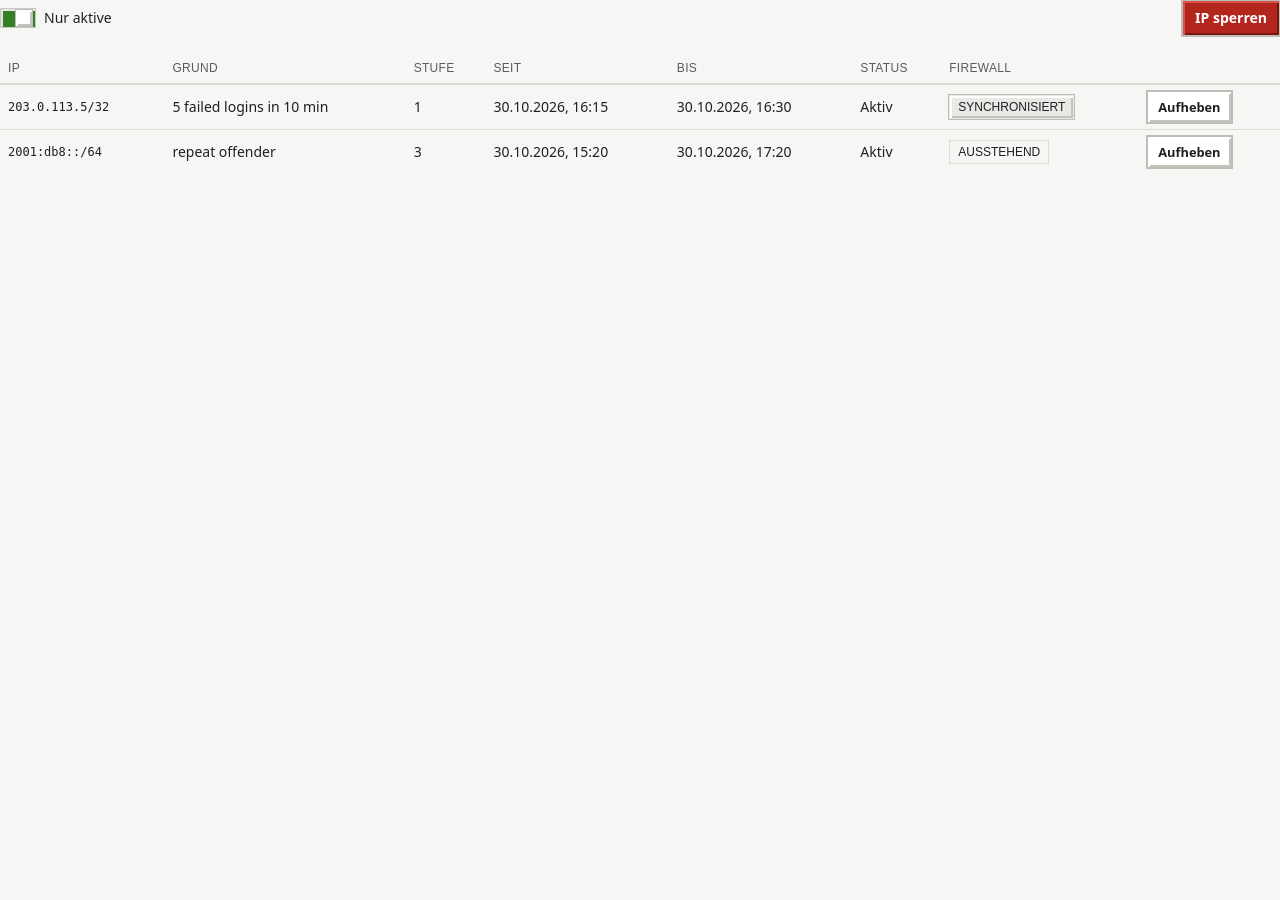
Test: JailsTab › lifts a jail after sudo confirmation
Step 1. Click the button with aria-label "Sperre für 203.0.113.5/32 aufheben" → coordinates (1189, 107), box x1=1147 y1=91 x2=1232 y2=123
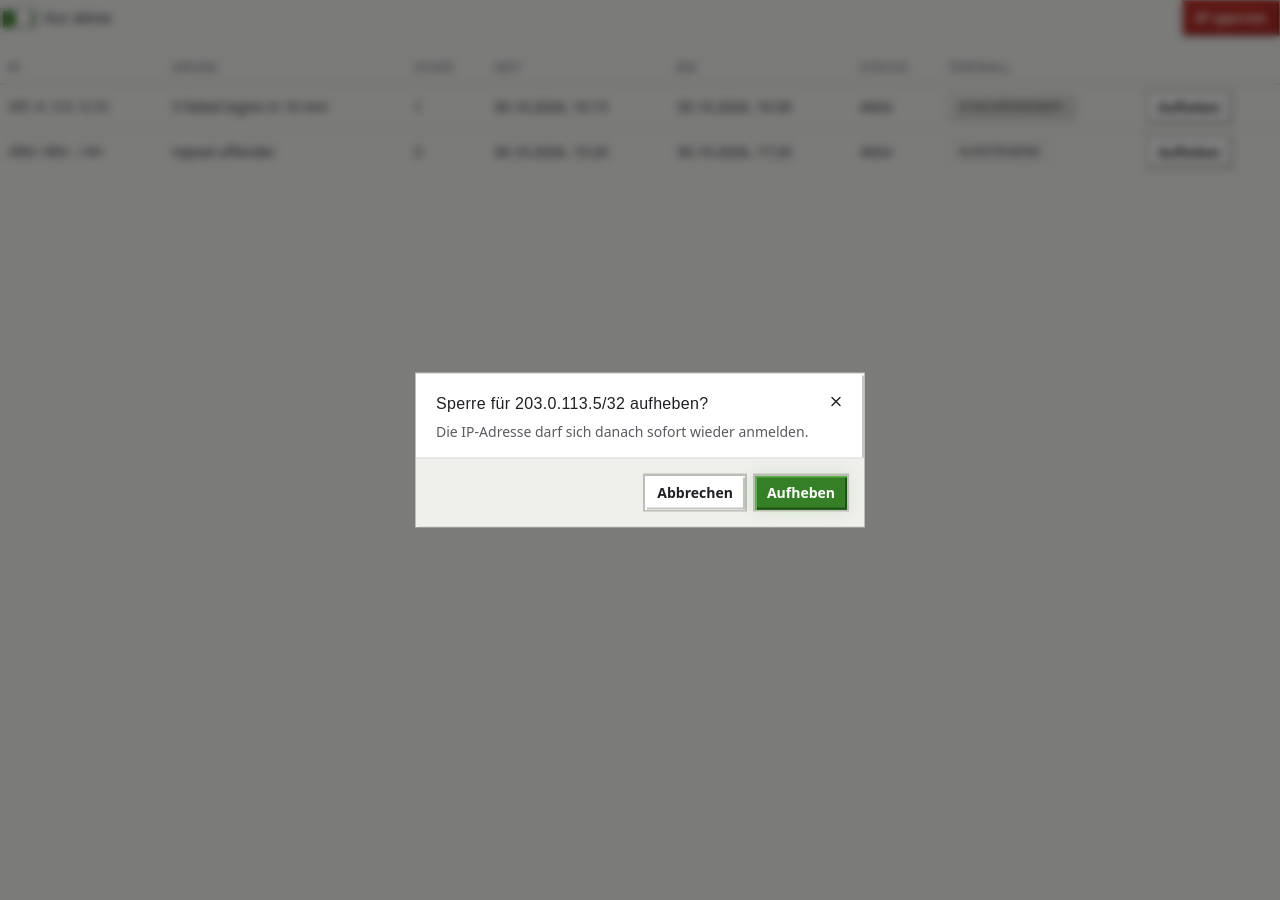
Step 2. Click the button "Aufheben" → coordinates (801, 492), box x1=754 y1=474 x2=848 y2=510
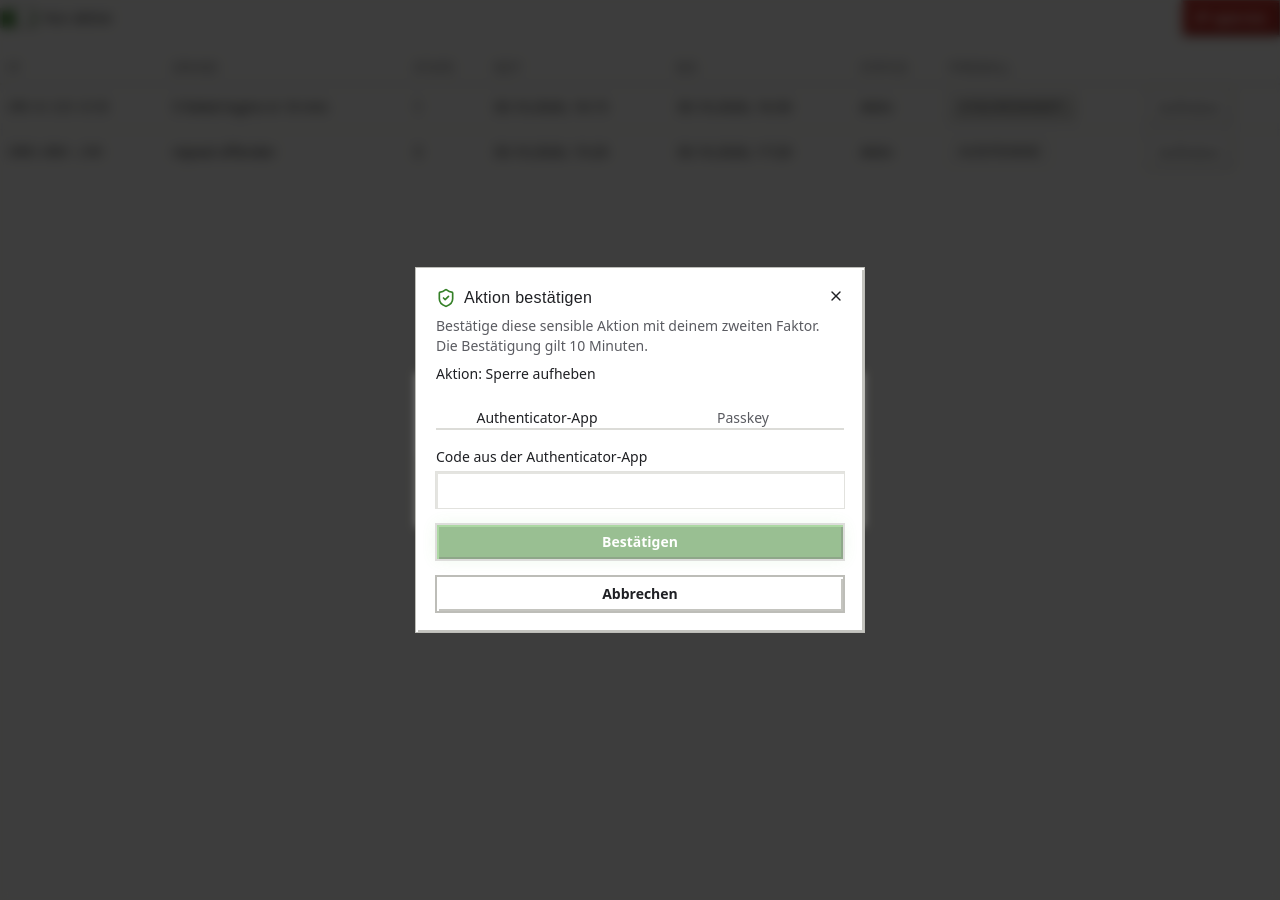
Step 3. Type "123456" into the field labelled "Code aus der Authenticator-App" → coordinates (640, 490), box x1=436 y1=472 x2=844 y2=508
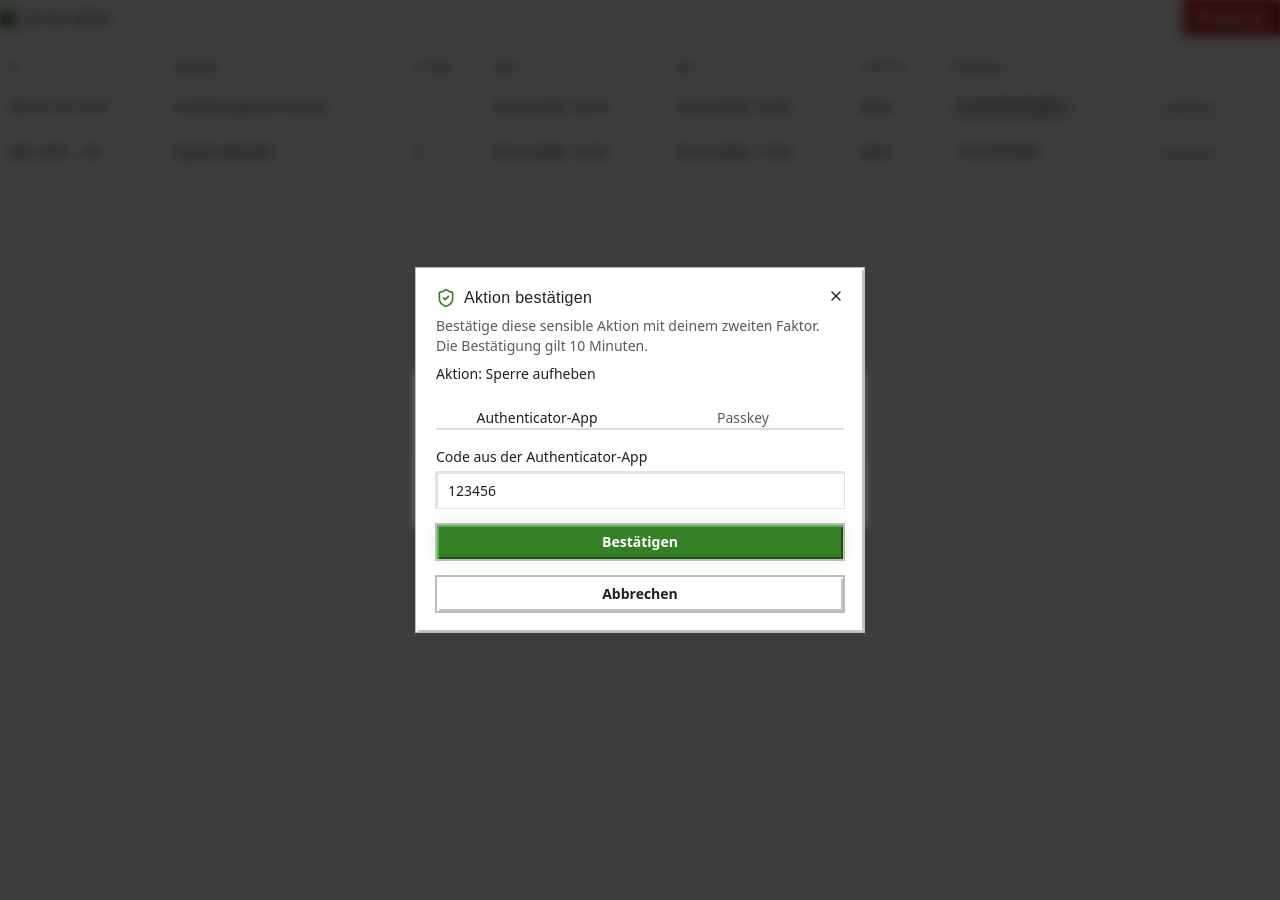
Step 4. Click the button "Bestätigen" → coordinates (640, 542), box x1=436 y1=524 x2=844 y2=560
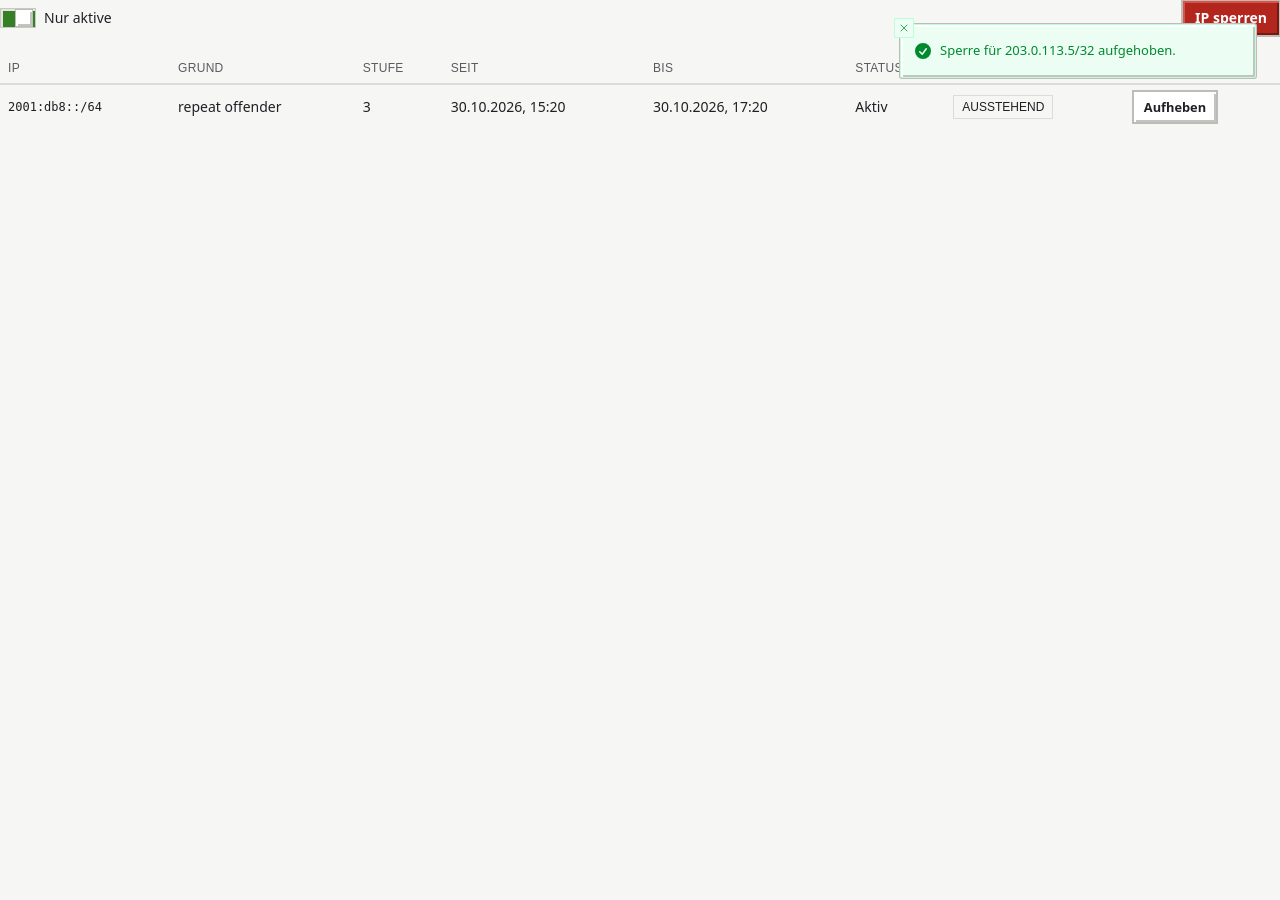
Expected: the text "Sperre für 203.0.113.5/32 aufgehoben." is shown, x1=940 y1=41 x2=1176 y2=60
Expected: the heading "Sperre für 203.0.113.5/32 aufheben" is gone
